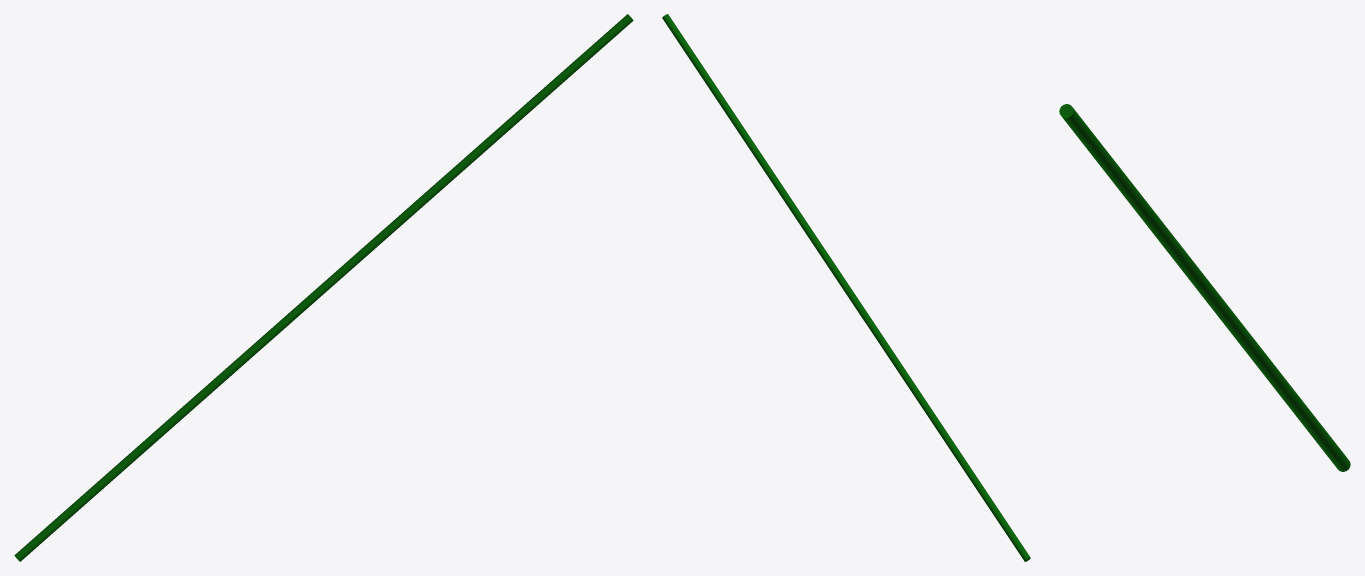
The model's file is Event_192787598_jet_1.fbx.
3 views of the same model, side by side, from view 1: azimuth 30°, elevation 25°; view 2: azimuth 150°, elevation 25°; view 3: azimuth 270°, elevation 25° (orthographic). The views are drawn at different scales.
Visible parts, largest first — view 1: Model; view 2: Model; view 3: Model.
Boxes of the visible parts, x1,y1,x2,y2 form: Model: [14, 14, 633, 561]; Model: [662, 14, 1030, 561]; Model: [1059, 104, 1350, 471].
Size of the model in its own units: 2.78 by 2.39 by 0.804.
